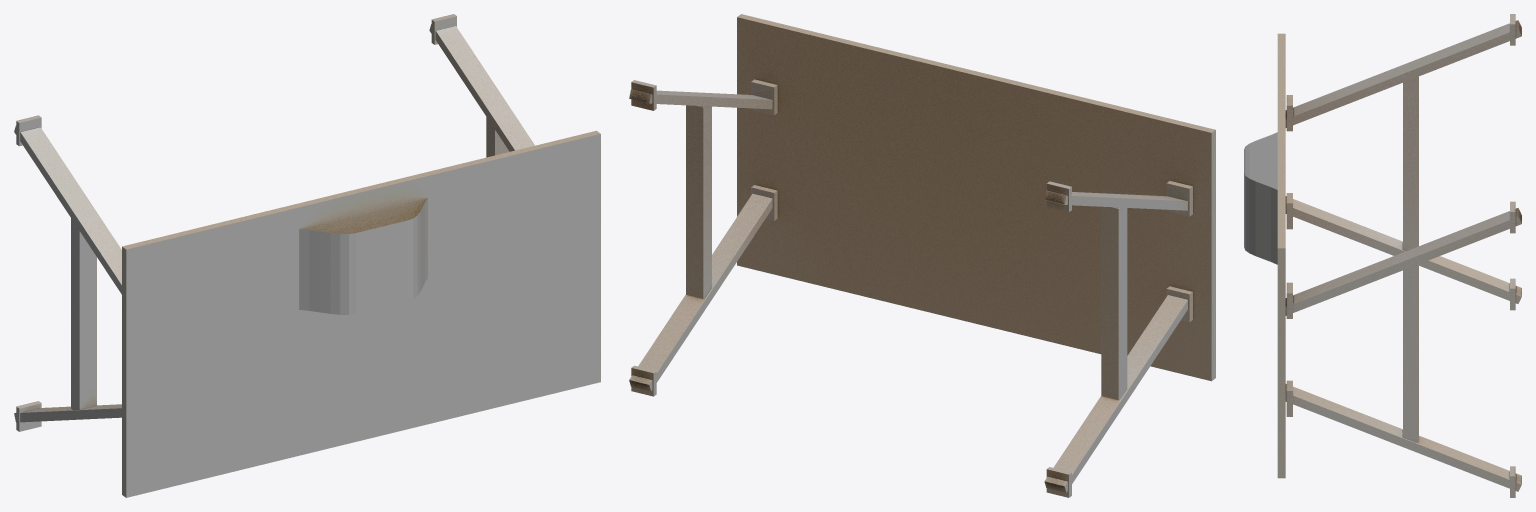
File: E1_desk_final_2.obj
3 views of the same model, side by side, from view 1: azimuth 30°, elevation 25°; view 2: azimuth 150°, elevation 25°; view 3: azimuth 270°, elevation 25° (orthographic). The views are drawn at different scales.
Visible parts, largest first — view 1: E1_desk_final_2.001; view 2: E1_desk_final_2.001; view 3: E1_desk_final_2.001.
Part boxes in pixels (x1,y1,x2,y2): E1_desk_final_2.001: [14, 14, 600, 497]; E1_desk_final_2.001: [629, 14, 1215, 497]; E1_desk_final_2.001: [1244, 14, 1521, 497].
Size of the model in its own units: 1.6 by 0.995 by 0.8755.
1 material, 1 textured.
